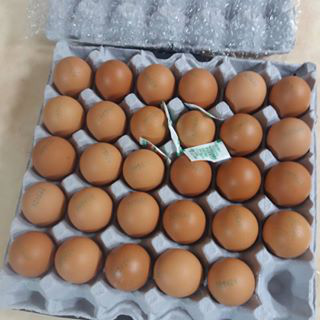egg: (8, 57, 312, 307)
